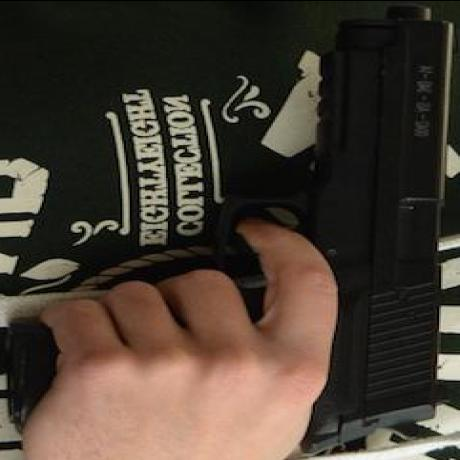1: (21, 219, 336, 460)
weapon: (90, 13, 444, 446)
